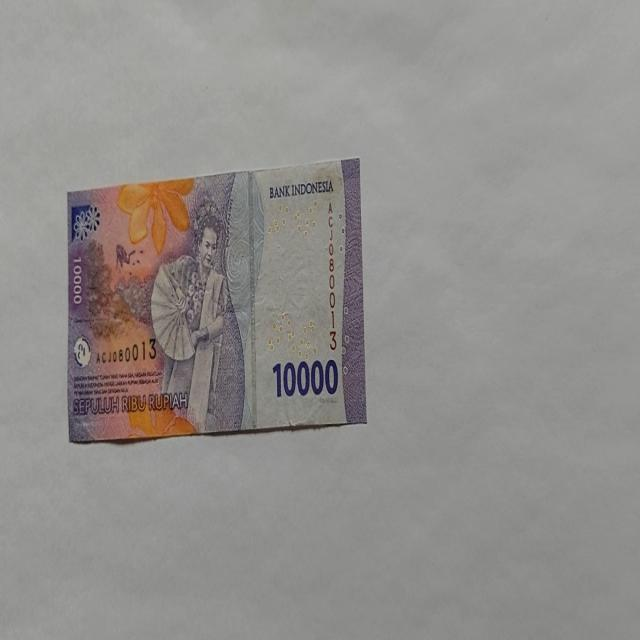sepuluh ribu rupiah: (66, 156, 367, 444), (268, 177, 334, 199)
